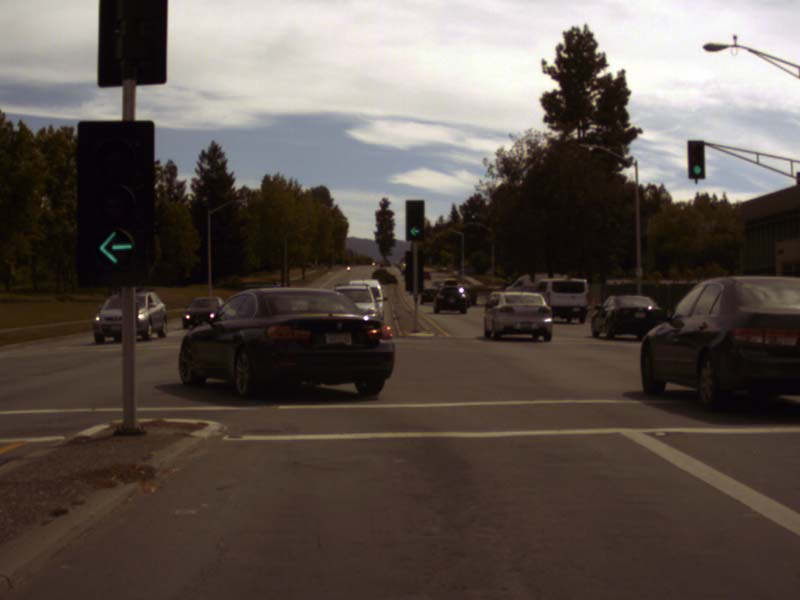Green: (80, 124, 150, 284), (407, 202, 422, 239), (688, 141, 703, 176)
